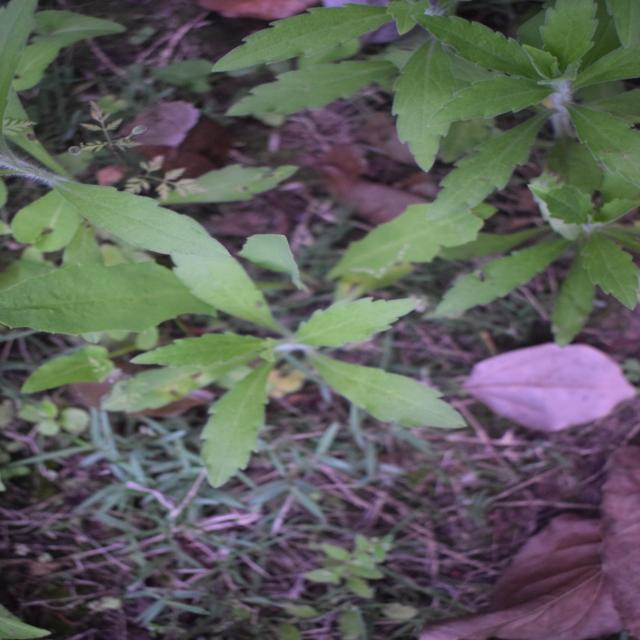horseweed: (181, 160, 408, 466), (404, 396, 640, 640)
